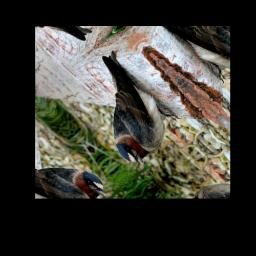Swallow: (53, 47, 195, 173)
